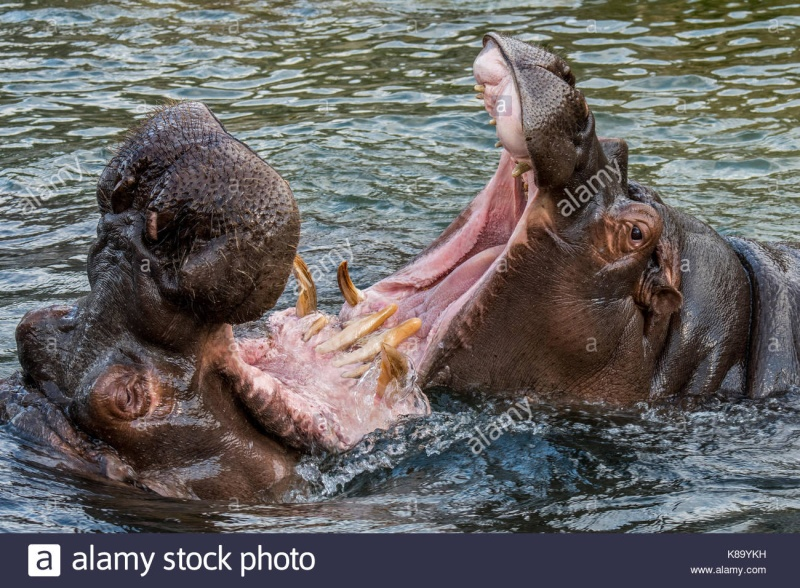hipopotamo: (2, 100, 432, 516), (327, 29, 800, 401)
